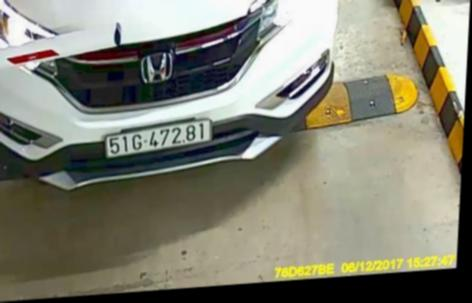License_Plate: (96, 116, 215, 157)
